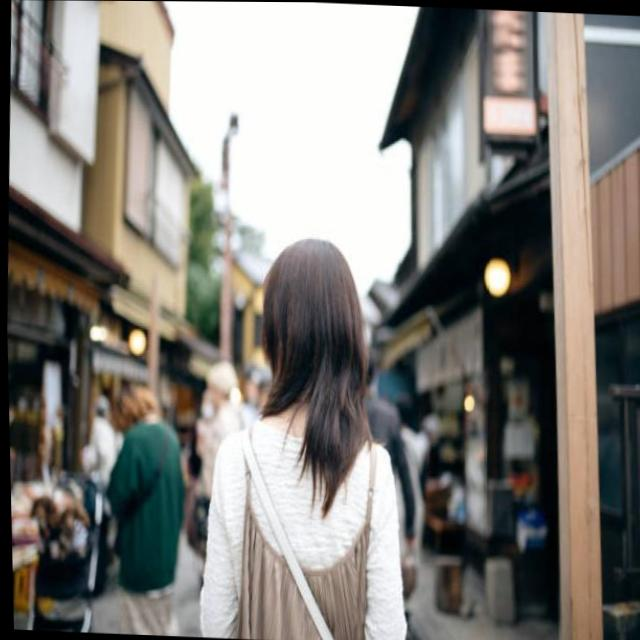no helmet: (256, 226, 371, 423)
